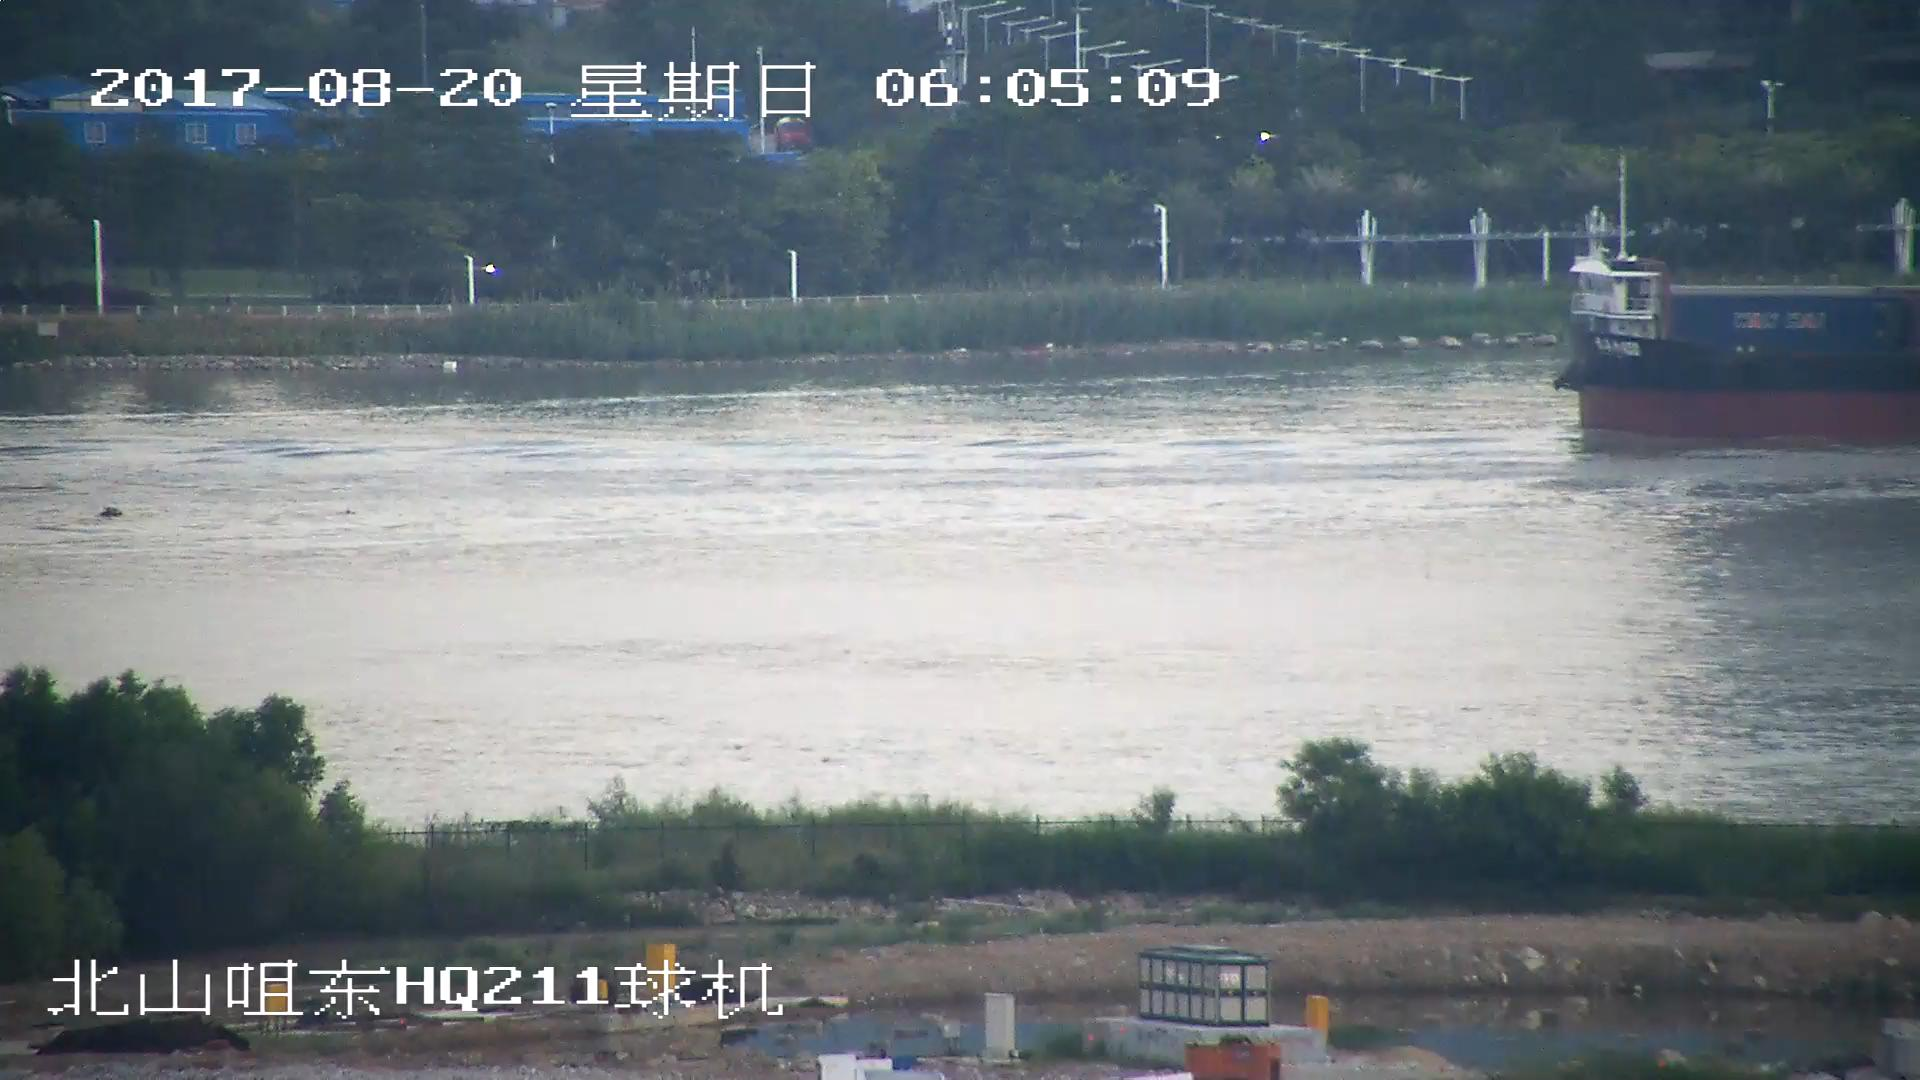container ship: (1561, 218, 1920, 441)
